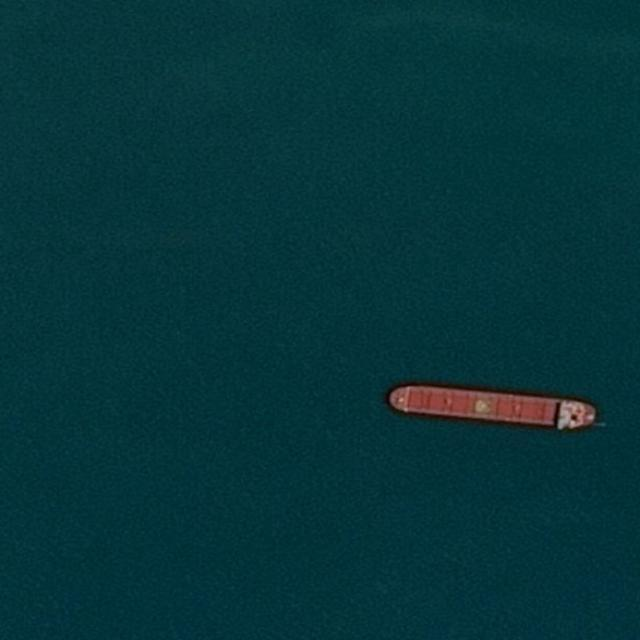Cargo: (386, 384, 600, 430)
